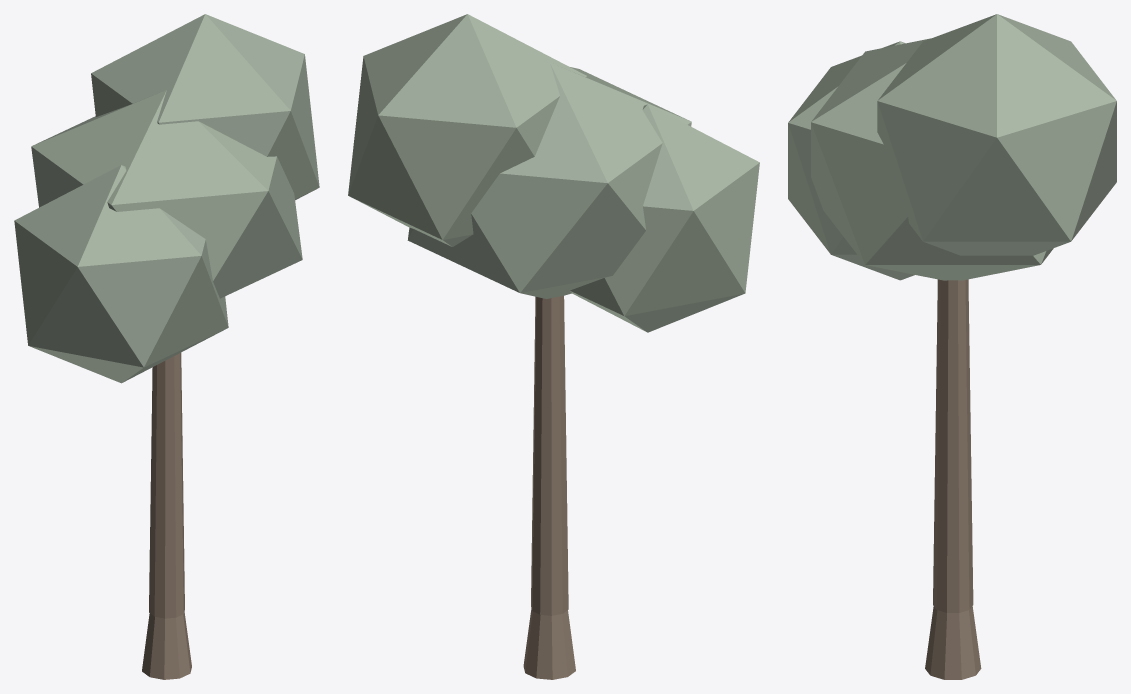
The model's file is tree.glb.
The picture shows the model from 3 angles, left to right: view 1: azimuth 30°, elevation 25°; view 2: azimuth 150°, elevation 25°; view 3: azimuth 270°, elevation 25°; orthographic projection. The views are drawn at different scales.
Visible parts, largest first — view 1: tree; view 2: tree; view 3: tree.
Part boxes in pixels (<box>): tree: <box>14,14,319,679</box>; tree: <box>348,14,759,679</box>; tree: <box>788,14,1116,679</box>.
Bounding box in the file's own units: 2.31 × 4.3 × 1.87.
